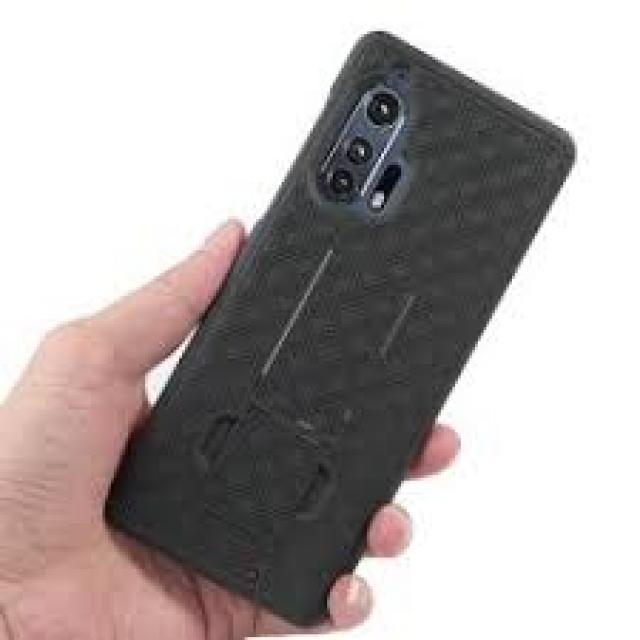lens: (316, 83, 405, 204)
phone: (102, 30, 580, 625)
